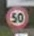limite 50: (5, 4, 29, 29)
